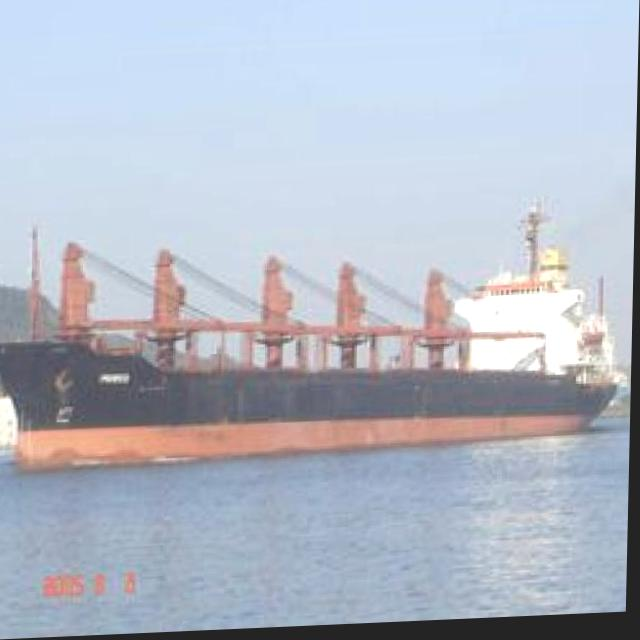ship2: (0, 202, 628, 476)
